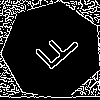F: (26, 25, 81, 79)
